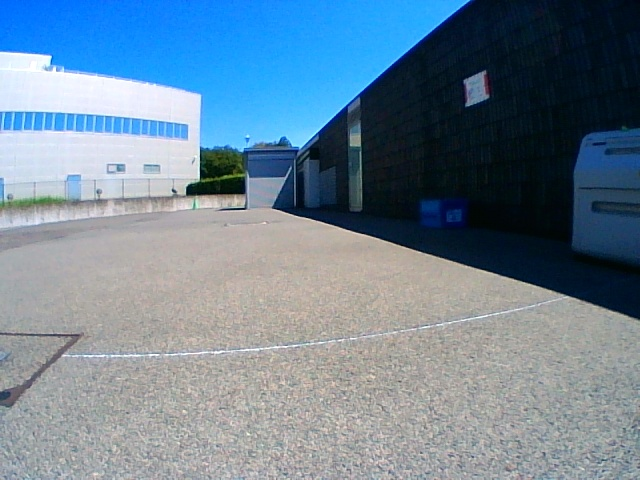blue_box: (422, 200, 465, 228)
tag: (447, 211, 460, 222)
